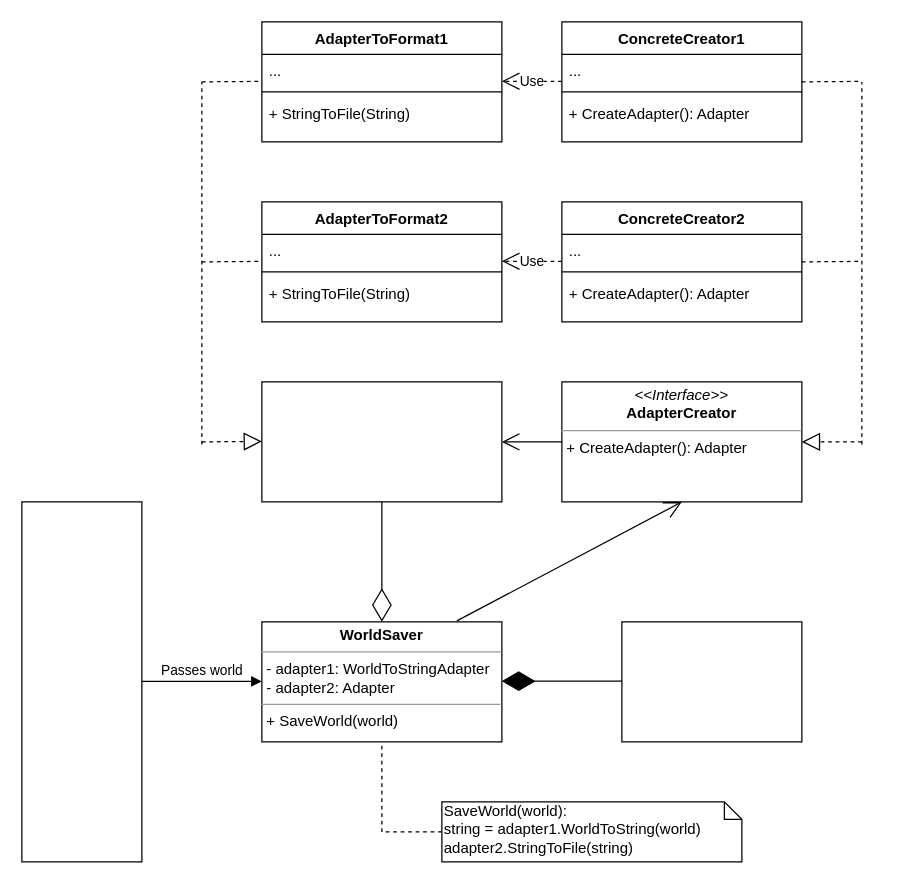
Image size: 901x884. Some labels were removed from this diagram. The shapes that lost their labels are listed below. From the top down, each one's centre as x and y in pixels, then its label:
the point at 381,441: <<Interface>> Adapter + StringToFile(String)
the point at 81,681: Client
the point at 711,681: WorldToStringAdapter
